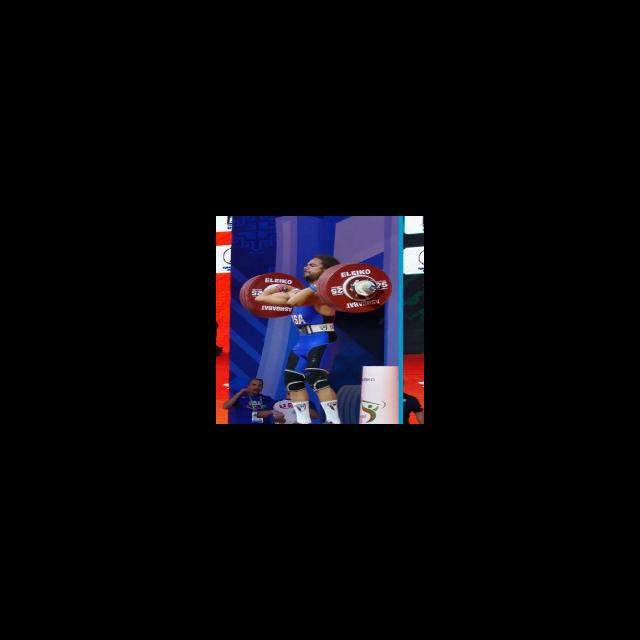barbell: (315, 260, 396, 315)
